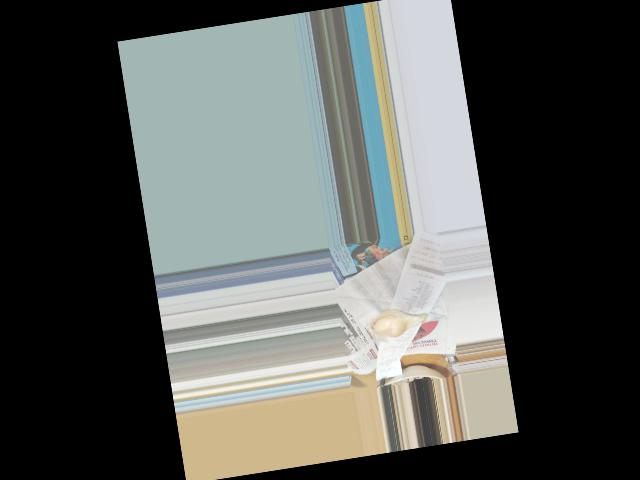onion: (369, 303, 426, 342)
